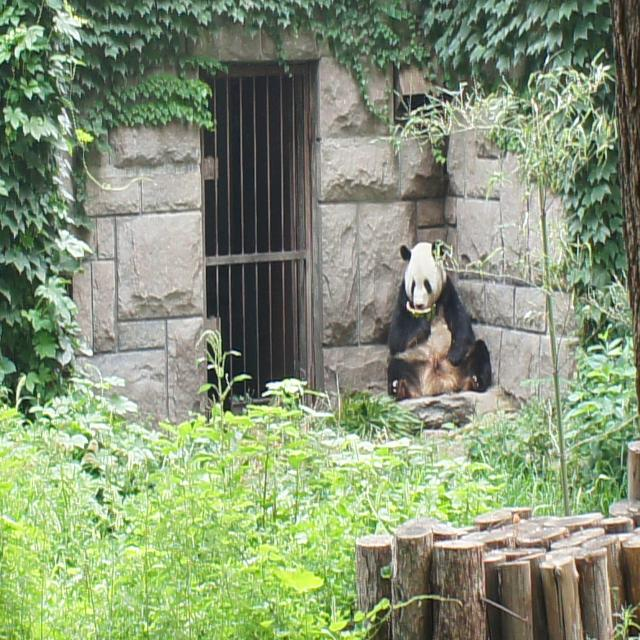panda: (393, 234, 488, 399)
